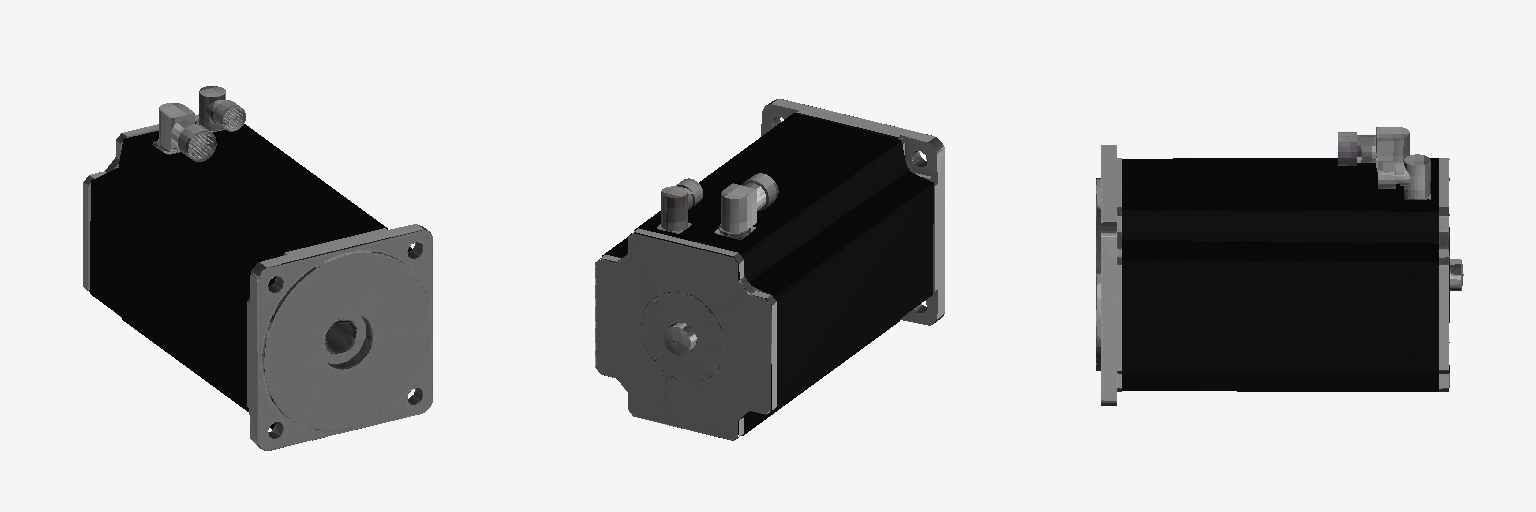
3 views of the same model, side by side, from view 1: azimuth 30°, elevation 25°; view 2: azimuth 150°, elevation 25°; view 3: azimuth 270°, elevation 25° (orthographic).
Parts seen in each view (by area): view 1: AEG-69-225-468_6,6kW_21-Nm, AEG-69-225-468_6,6kW_21-Nm.002_AEG-69-225-468_6,6kW_21-Nm.004, Cylinder.001_Cylinder.003; view 2: AEG-69-225-468_6,6kW_21-Nm, AEG-69-225-468_6,6kW_21-Nm.002_AEG-69-225-468_6,6kW_21-Nm.004, Cylinder.001_Cylinder.003; view 3: AEG-69-225-468_6,6kW_21-Nm, AEG-69-225-468_6,6kW_21-Nm.002_AEG-69-225-468_6,6kW_21-Nm.004, Cylinder.001_Cylinder.003.
Boxes of the visible parts, <box> form: AEG-69-225-468_6,6kW_21-Nm: <box>90,121,412,429</box>; AEG-69-225-468_6,6kW_21-Nm.002_AEG-69-225-468_6,6kW_21-Nm.004: <box>83,114,432,450</box>; Cylinder.001_Cylinder.003: <box>152,86,245,161</box>; AEG-69-225-468_6,6kW_21-Nm: <box>602,113,933,435</box>; AEG-69-225-468_6,6kW_21-Nm.002_AEG-69-225-468_6,6kW_21-Nm.004: <box>595,99,944,440</box>; Cylinder.001_Cylinder.003: <box>657,173,778,239</box>; AEG-69-225-468_6,6kW_21-Nm: <box>1122,158,1438,391</box>; AEG-69-225-468_6,6kW_21-Nm.002_AEG-69-225-468_6,6kW_21-Nm.004: <box>1096,145,1463,405</box>; Cylinder.001_Cylinder.003: <box>1338,127,1430,199</box>.
Size of the model in its own units: 0.2461 by 0.2965 by 0.4429.
Materials: 3 (1 with a texture image).